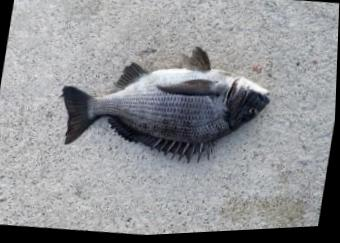fish: (61, 48, 272, 163)
